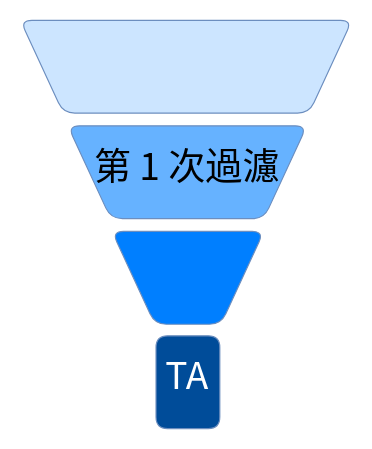
This 372x449 diagram has some shape labels left out. Each missing label, with the centre of its shape:
"全部的交易資料" goes at [185,66].
"第 n 次 過濾" goes at [187,277].
